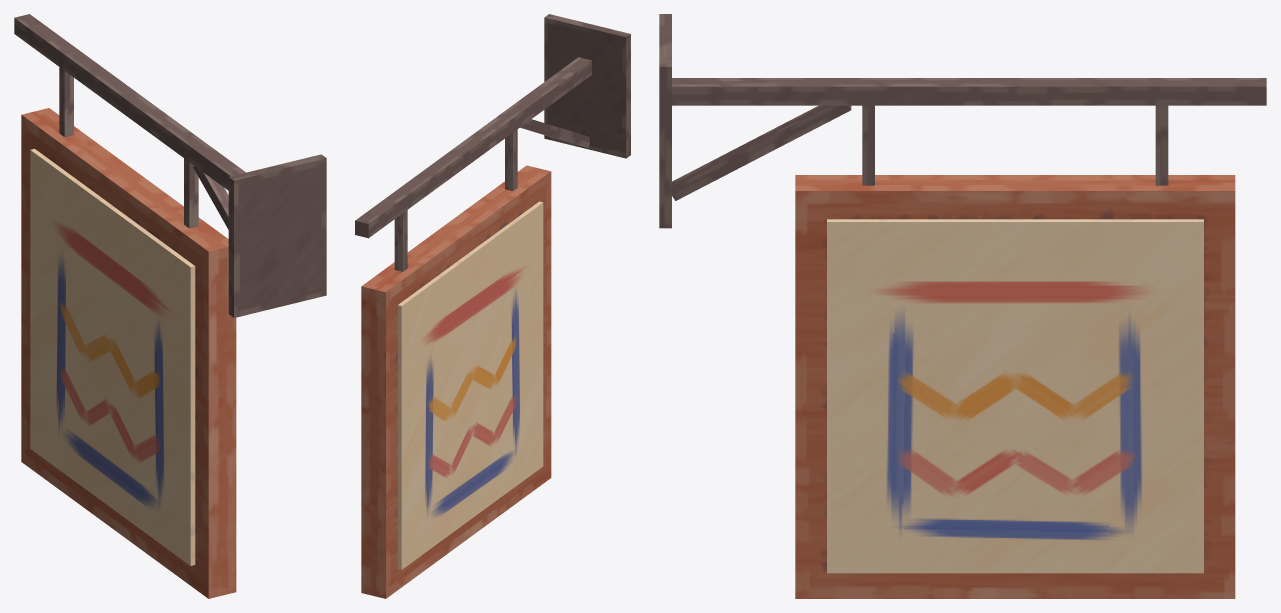
The model's file is sign_cloth_low.fbx.
3 renders of one model, left to right at view 1: azimuth 30°, elevation 25°; view 2: azimuth 150°, elevation 25°; view 3: azimuth 270°, elevation 25°, orthographic. The views are drawn at different scales.
Parts seen in each view (by area): view 1: sign_cloth; view 2: sign_cloth; view 3: sign_cloth.
Part boxes in pixels (bbox=[...]): sign_cloth: bbox=[14, 14, 326, 598]; sign_cloth: bbox=[355, 14, 630, 598]; sign_cloth: bbox=[659, 14, 1266, 598].
Size of the model in its own units: 0.6 by 2.9 by 2.9.
Materials: 1 (1 with a texture image).
